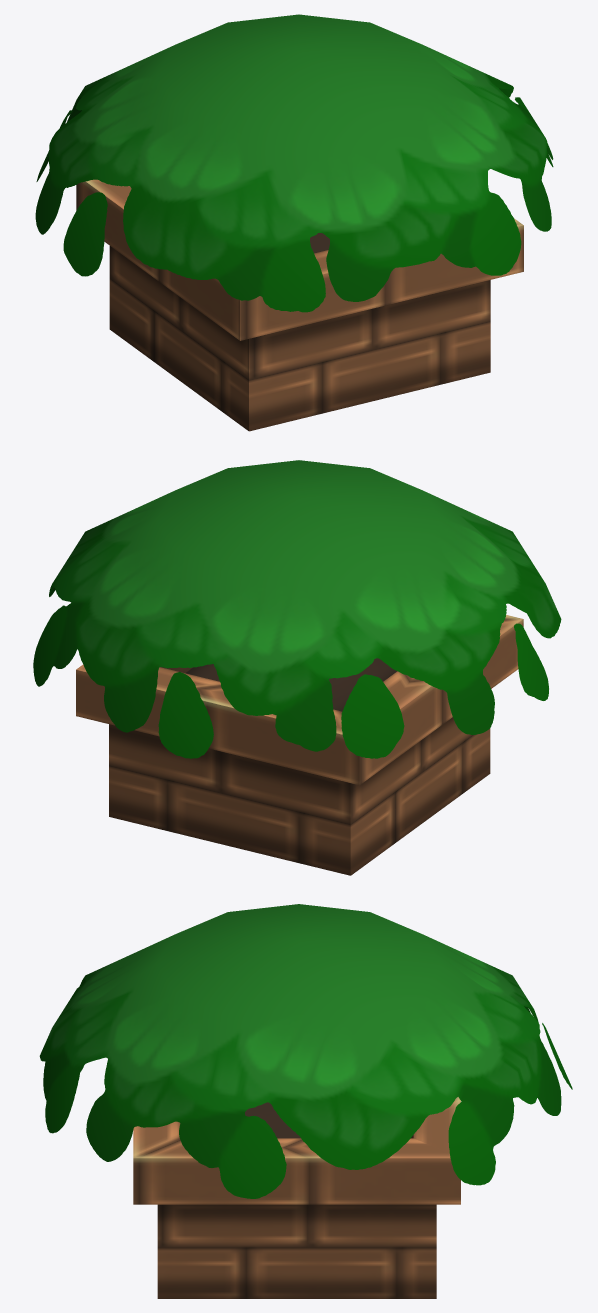
Rendered from Shrub.FBX.
3 renders of one model, top to bottom at view 1: azimuth 30°, elevation 25°; view 2: azimuth 150°, elevation 25°; view 3: azimuth 270°, elevation 25°, orthographic.
Visible parts, largest first — view 1: Shrub; view 2: Shrub; view 3: Shrub.
Boxes of the visible parts, box(x1,y1,x2,y2) form: Shrub: box(35, 14, 553, 431); Shrub: box(33, 460, 561, 875); Shrub: box(39, 904, 572, 1298).
Size of the model in its own units: 32.22 by 18.64 by 32.22.
